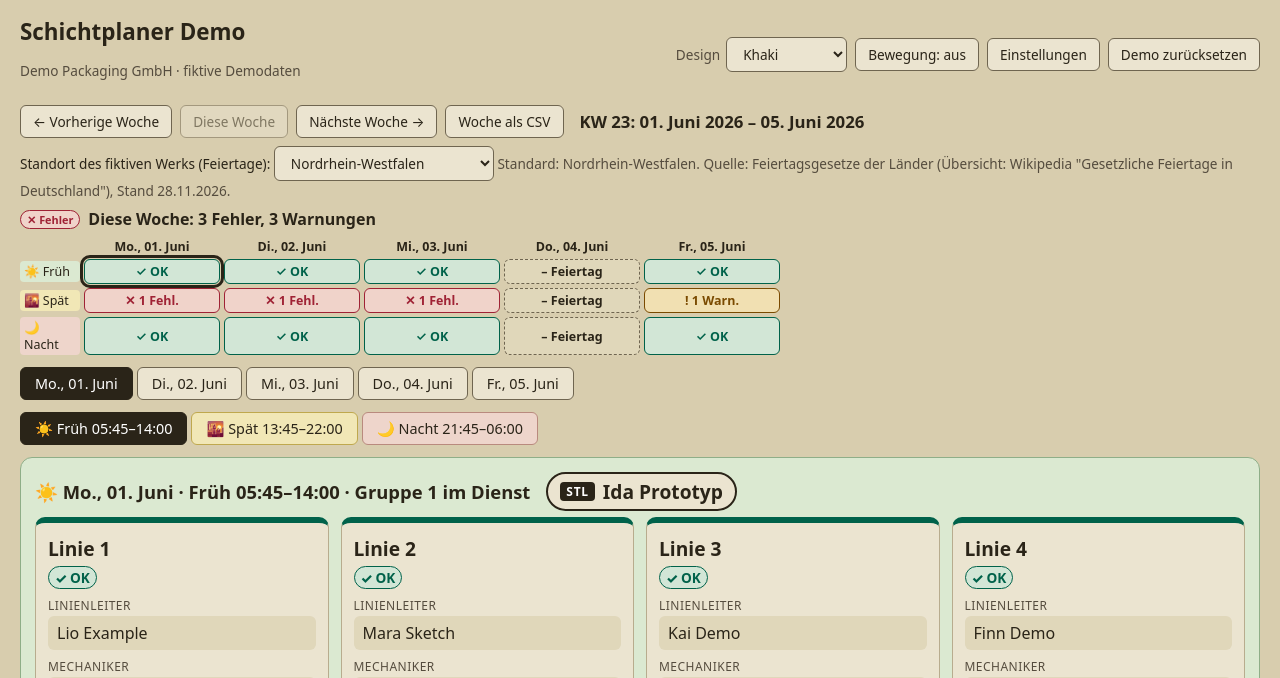
it: public holidays (fictional plant location) › marks a mid-week Feiertag as non-working: no cards, no staffing errors
Expected: the dropdown labelled "Standort des fiktiven Werks (Feiertage):" shows "Nordrhein-Westfalen", [274,146,494,181]
Expected: the number of buttons named "Feiertag Fronleichnam, keine Schicht" is 3, [504,259,640,284]; [504,288,640,313]; [504,317,640,355]
Step 1. Click the button "Do., 04." → (413, 384), box [358,367,468,400]
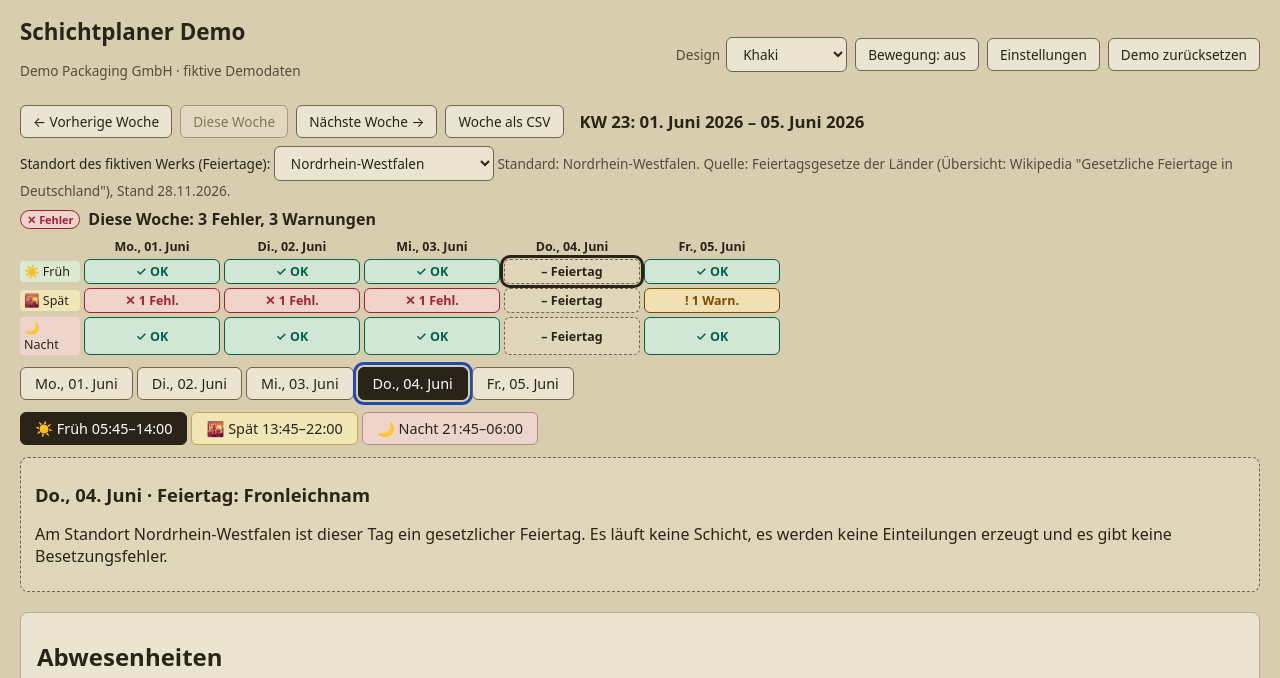
Expected: the number of buttons "✓ OK" is 3, [364,259,500,284]; [364,288,500,313]; [364,317,500,355]
Expected: the heading "Feiertag: Fronleichnam" is shown, [35,482,370,507]
Expected: the heading "Linie 1" is gone
